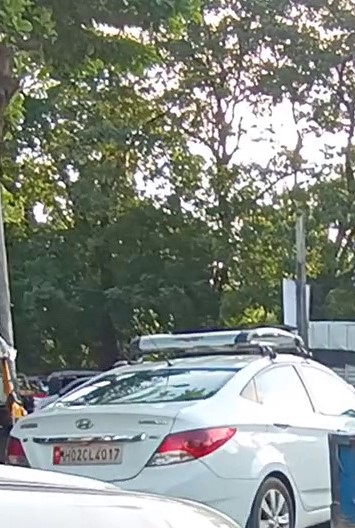MH02CL4017: (52, 443, 122, 464)
